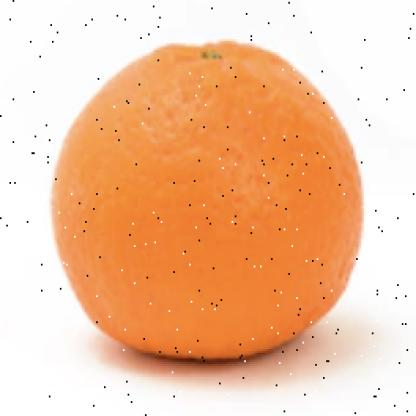fresh: (51, 42, 360, 363)
